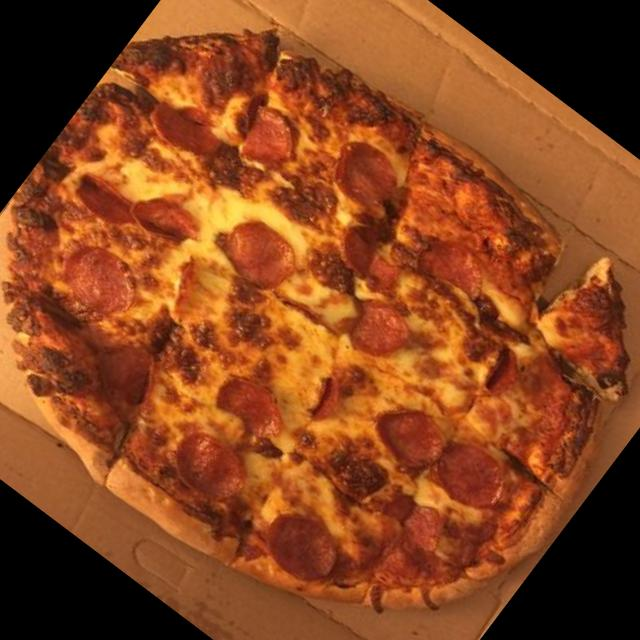pizza: (0, 30, 631, 616), (193, 192, 310, 304), (154, 414, 262, 518), (252, 497, 356, 595), (57, 234, 155, 330), (424, 426, 521, 520), (364, 388, 458, 478), (328, 282, 422, 372), (216, 94, 306, 182), (138, 94, 229, 180), (322, 210, 410, 292), (320, 130, 406, 213), (216, 365, 302, 444), (410, 227, 492, 304), (464, 335, 534, 408), (137, 186, 206, 253), (76, 165, 142, 229), (397, 501, 453, 556)
